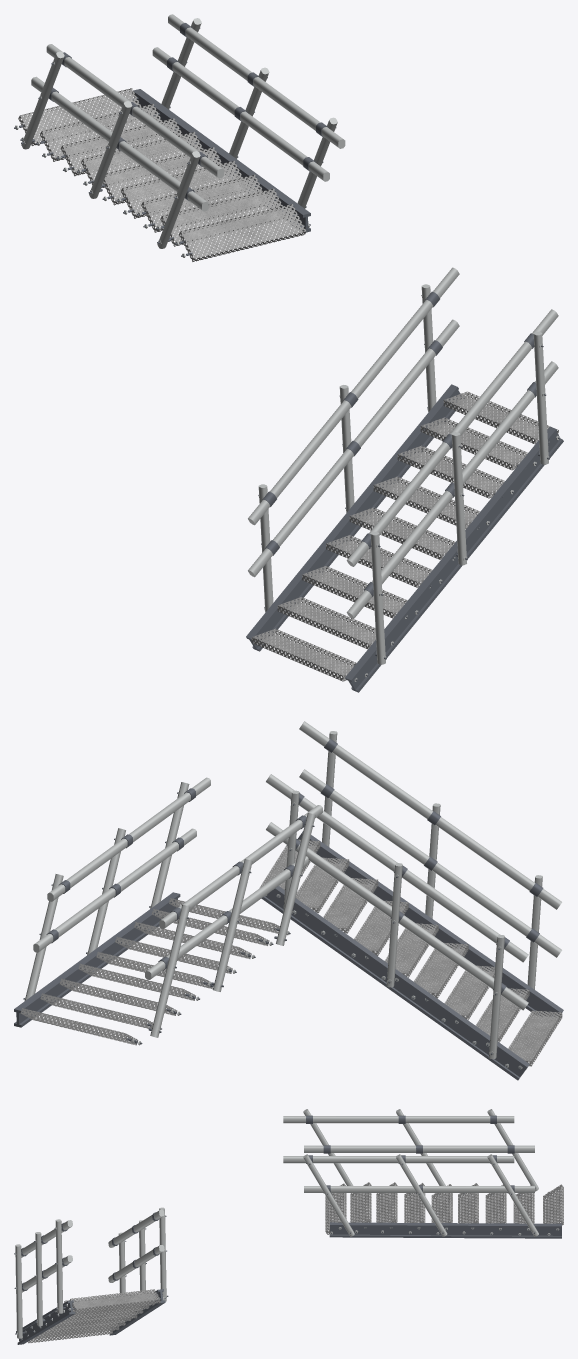
The model's file is Catwalk FBX.fbx.
3 views of the same model, one above another, from view 1: azimuth 30°, elevation 25°; view 2: azimuth 150°, elevation 25°; view 3: azimuth 270°, elevation 25° (orthographic). The views are drawn at different scales.
Parts seen in each view (by area): view 1: stair (×18), railing4 (×9), girder (×2), girder1, railing1 (×2), railing (×2), railing2 (×2), railing3 (×2); view 2: stair (×18), railing4 (×12), girder (×2), railing1 (×2), railing2 (×2), railing (×2), railing3 (×2), girder1; view 3: stair (×17), railing4 (×11), girder (×2), railing1 (×2), railing2 (×2), railing3 (×2), railing (×2), girder1.
Part boxes in pixels (left/top/right/bottom): stair (×18): left=18, top=88, right=558, bottom=681; railing4 (×9): left=21, top=51, right=548, bottom=664; girder (×2): left=132, top=89, right=464, bottom=651; girder1: left=345, top=426, right=563, bottom=692; railing1 (×2): left=168, top=14, right=459, bottom=525; railing (×2): left=152, top=47, right=459, bottom=577; railing2 (×2): left=46, top=44, right=558, bottom=566; railing3 (×2): left=31, top=76, right=558, bottom=618; stair (×18): left=20, top=839, right=562, bottom=1066; railing4 (×12): left=24, top=731, right=542, bottom=1059; girder (×2): left=14, top=886, right=529, bottom=1080; railing1 (×2): left=47, top=774, right=528, bottom=962; railing2 (×2): left=159, top=721, right=561, bottom=928; railing (×2): left=33, top=822, right=528, bottom=1010; railing3 (×2): left=145, top=769, right=561, bottom=979; girder1: left=297, top=831, right=563, bottom=1015; stair (×17): left=28, top=1182, right=563, bottom=1343; railing4 (×11): left=15, top=1109, right=538, bottom=1338; girder (×2): left=109, top=1222, right=561, bottom=1335; railing1 (×2): left=108, top=1156, right=514, bottom=1247; railing2 (×2): left=21, top=1116, right=514, bottom=1257; railing3 (×2): left=22, top=1145, right=534, bottom=1292; railing (×2): left=108, top=1186, right=534, bottom=1282; girder1: left=16, top=1300, right=75, bottom=1344.
Size of the model in its own units: 353 by 441 by 869.
Materials: 1 (1 with a texture image).
